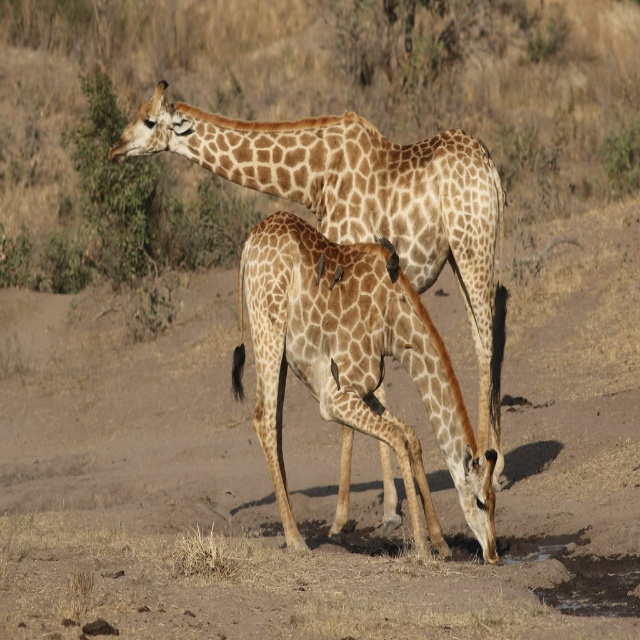Giraffe: (108, 80, 509, 491), (231, 210, 498, 561)
